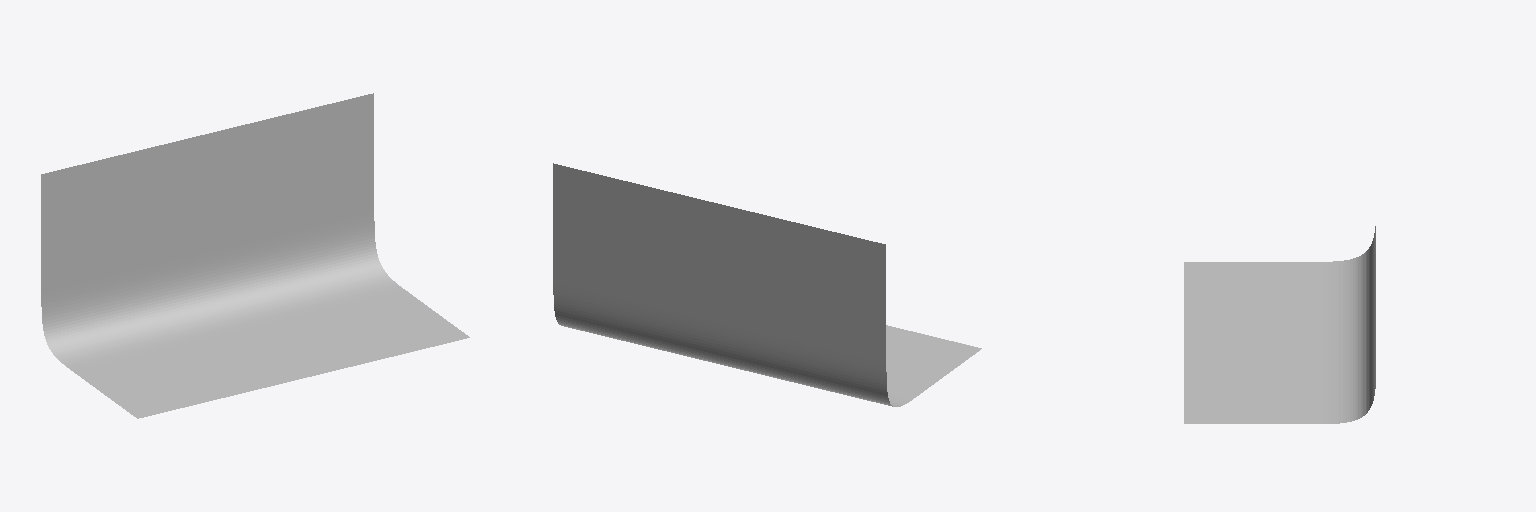
Rendered from shaderball_hd_cyc.obj.
The picture shows the model from 3 angles: view 1: azimuth 30°, elevation 25°; view 2: azimuth 150°, elevation 25°; view 3: azimuth 270°, elevation 25°; orthographic projection.
Bounding box in the file's own units: 4000 × 2000 × 2000.